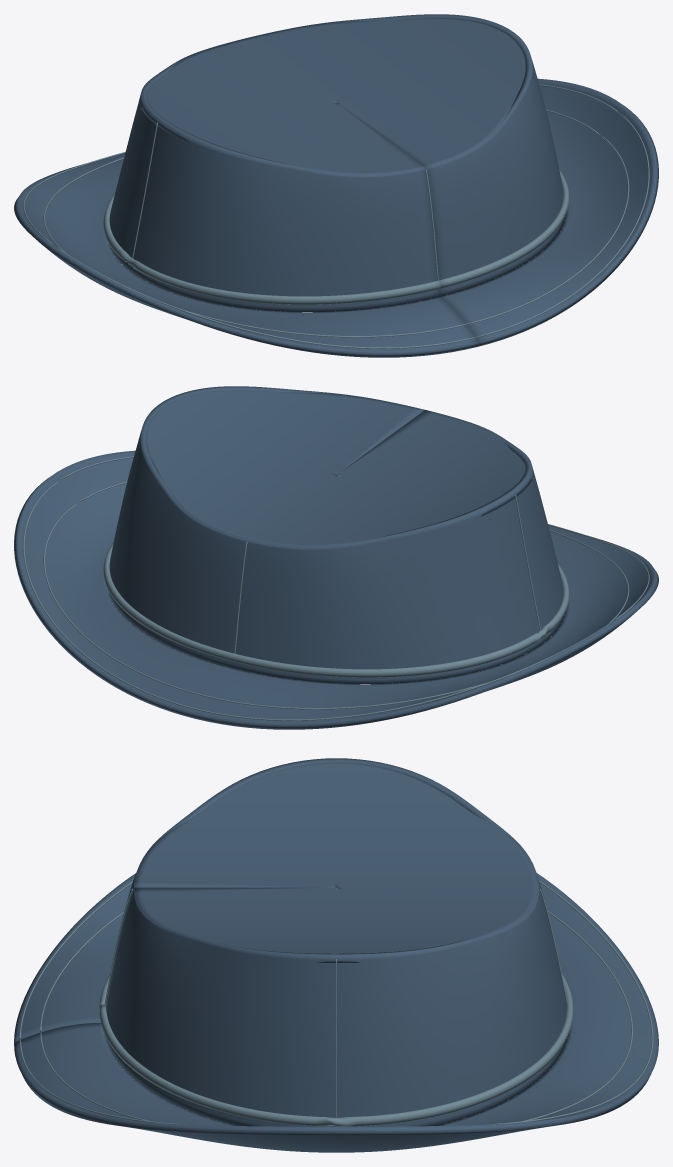
File: Feminine-cowboy-headgear.glb
The picture shows the model from 3 angles, top to bottom: view 1: azimuth 30°, elevation 25°; view 2: azimuth 150°, elevation 25°; view 3: azimuth 270°, elevation 25°; orthographic projection. The views are drawn at different scales.
Parts seen in each view (by area): view 1: 226 headgear / Headwear / fabric226, 226 headgear / Headwear / seam226; view 2: 226 headgear / Headwear / fabric226, 226 headgear / Headwear / seam226; view 3: 226 headgear / Headwear / fabric226, 226 headgear / Headwear / seam226.
Part boxes in pixels (x1,y1,x2,y2): 226 headgear / Headwear / fabric226: [14, 14, 658, 357]; 226 headgear / Headwear / seam226: [23, 84, 649, 348]; 226 headgear / Headwear / fabric226: [14, 386, 658, 729]; 226 headgear / Headwear / seam226: [23, 456, 649, 720]; 226 headgear / Headwear / fabric226: [14, 758, 658, 1152]; 226 headgear / Headwear / seam226: [19, 880, 653, 1126].
Size of the model in its own units: 1.45 by 0.4037 by 1.23.
